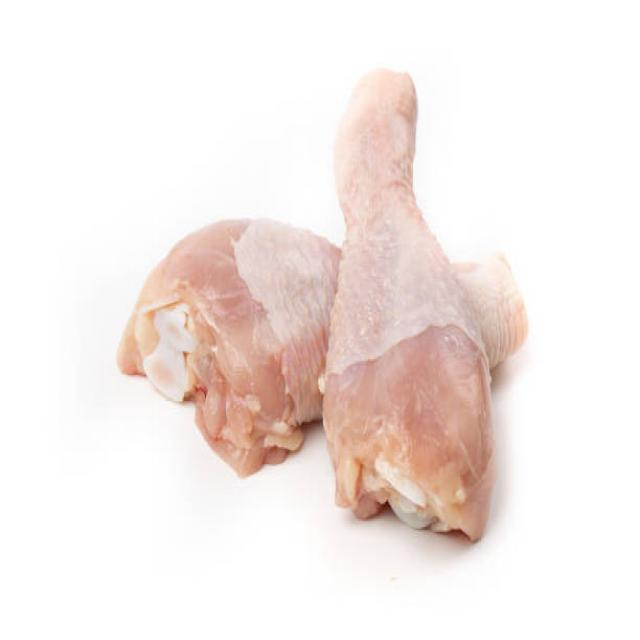Chicken: (327, 64, 494, 546), (115, 209, 326, 482)
